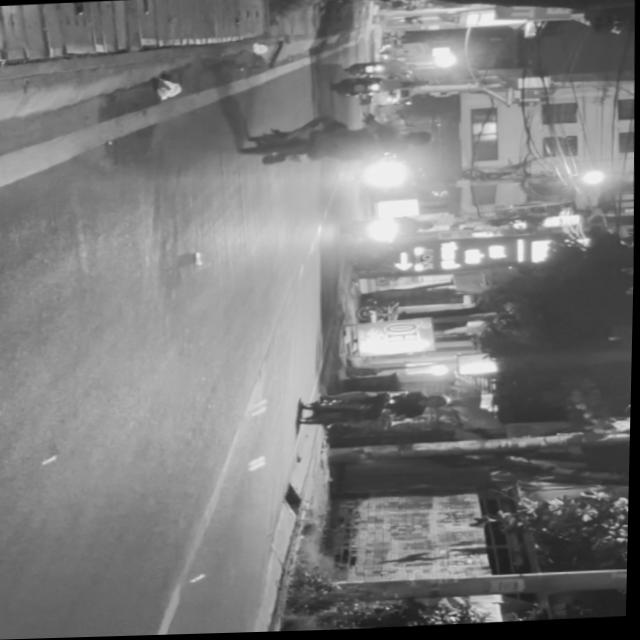licenseplate: (236, 109, 436, 174)
